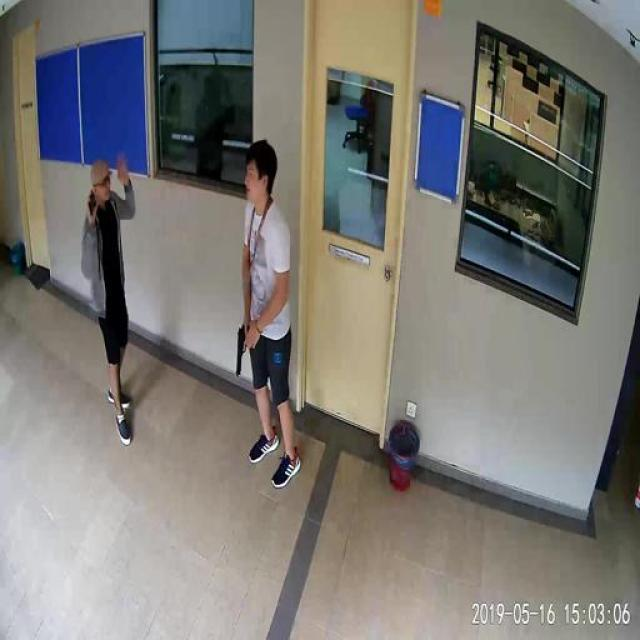Gun: (226, 304, 258, 393)
